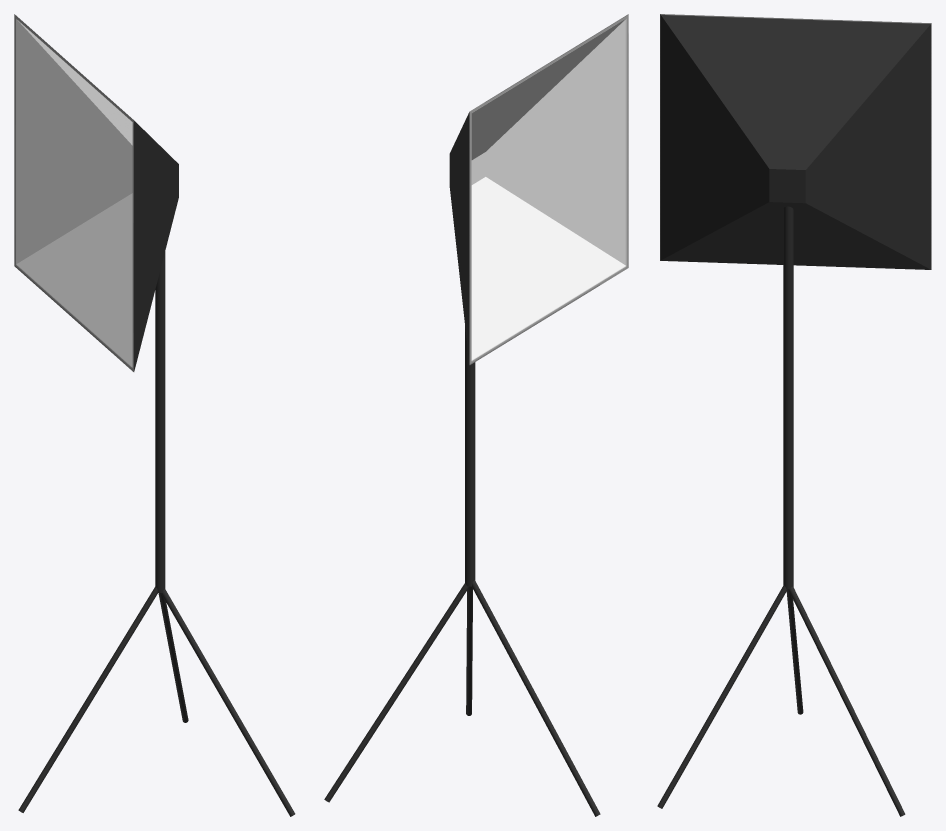
File: daguangdeng.fbx
The picture shows the model from 3 angles, left to right: view 1: azimuth 30°, elevation 25°; view 2: azimuth 150°, elevation 25°; view 3: azimuth 270°, elevation 25°; orthographic projection. The views are drawn at different scales.
Visible parts, largest first — view 1: floodlight_floodlight.001_0; view 2: floodlight_floodlight.001_0; view 3: floodlight_floodlight.001_0.
Part boxes in pixels (x1,y1,x2,y2): floodlight_floodlight.001_0: (14,14,295,816); floodlight_floodlight.001_0: (324,14,628,816); floodlight_floodlight.001_0: (657,14,931,816).
Size of the model in its own units: 68.99 by 219 by 75.68.
